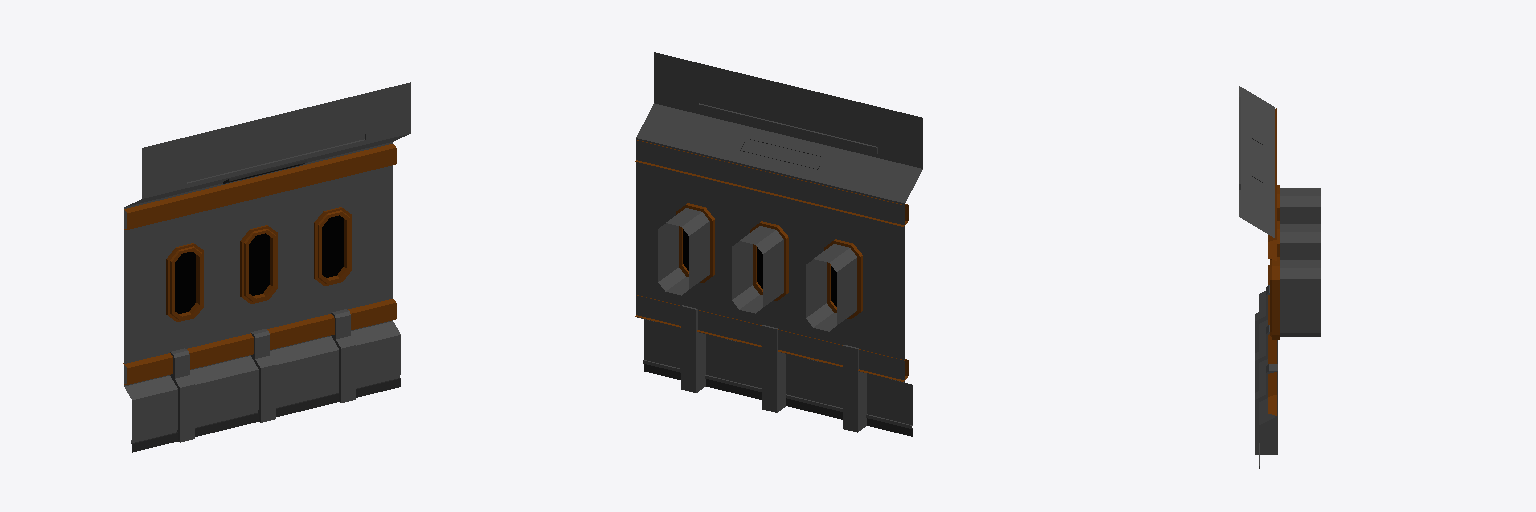
Rendered from ThreeWindows_Wall_SideA.obj.
3 renders of one model, left to right at view 1: azimuth 30°, elevation 25°; view 2: azimuth 150°, elevation 25°; view 3: azimuth 270°, elevation 25°, orthographic.
Visible parts, largest first — view 1: ThreeWindows_Wall_SideA_Plane.010; view 2: ThreeWindows_Wall_SideA_Plane.010; view 3: ThreeWindows_Wall_SideA_Plane.010.
Boxes of the visible parts, <box> form: ThreeWindows_Wall_SideA_Plane.010: <box>123,82,410,452</box>; ThreeWindows_Wall_SideA_Plane.010: <box>635,52,922,436</box>; ThreeWindows_Wall_SideA_Plane.010: <box>1239,86,1320,468</box>.
Size of the model in its own units: 4 by 4.43 by 1.06.